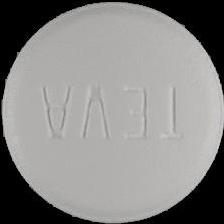0615-7687: (0, 0, 224, 224)
